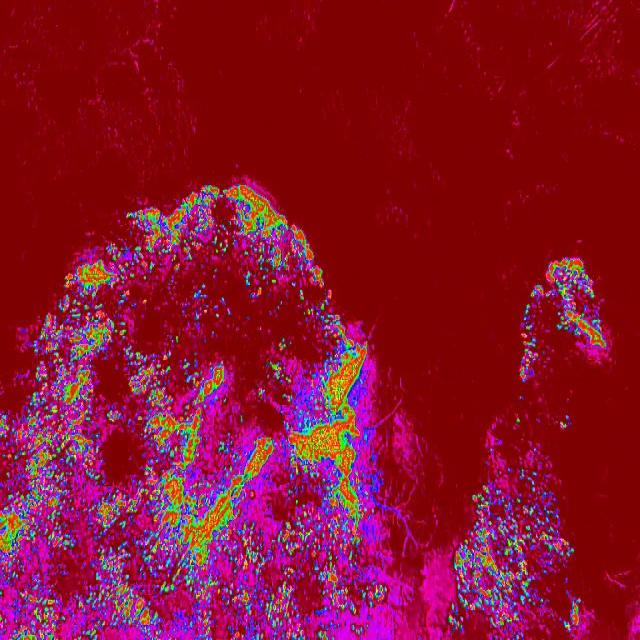fire: (0, 411, 394, 640), (26, 342, 375, 412), (472, 482, 570, 640), (39, 298, 348, 342), (64, 246, 324, 296), (526, 250, 608, 354), (124, 203, 306, 246), (447, 535, 473, 640), (180, 181, 270, 204), (518, 338, 538, 379), (569, 594, 580, 628)
